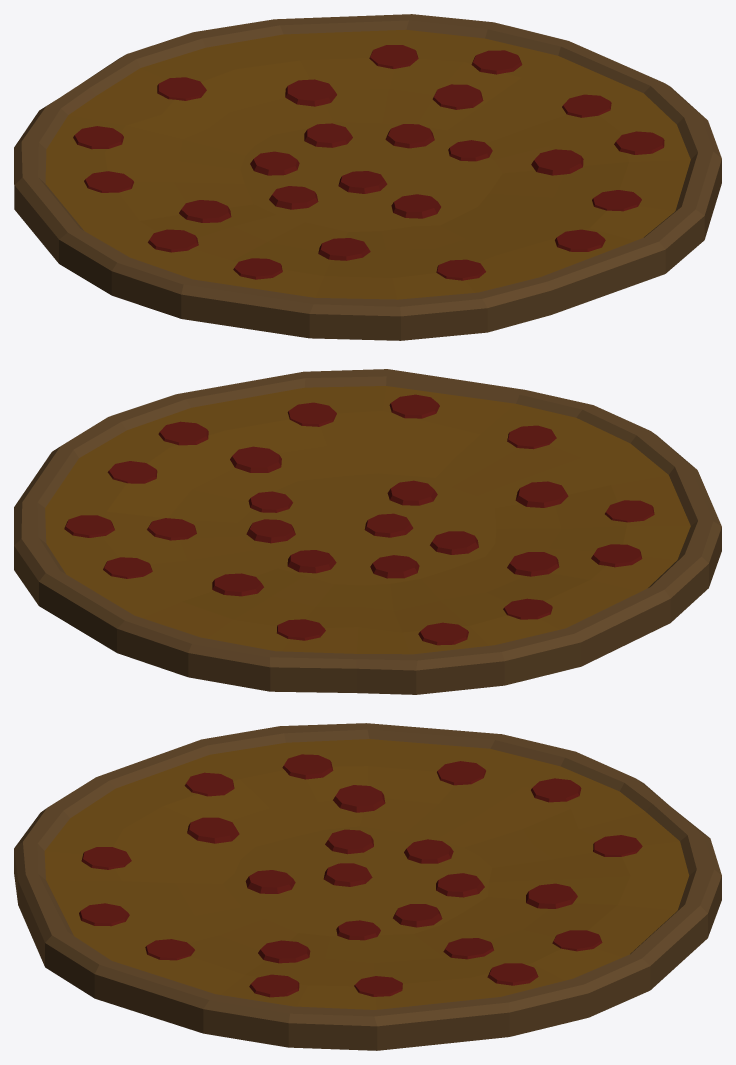
File: Pizza.obj
3 views of the same model, one above another, from view 1: azimuth 30°, elevation 25°; view 2: azimuth 150°, elevation 25°; view 3: azimuth 270°, elevation 25° (orthographic).
Parts seen in each view (by area): view 1: Pizza_Cube.017; view 2: Pizza_Cube.017; view 3: Pizza_Cube.017.
Part boxes in pixels (x1,y1,x2,y2): Pizza_Cube.017: [14, 14, 721, 340]; Pizza_Cube.017: [14, 369, 721, 694]; Pizza_Cube.017: [14, 723, 721, 1050].
Bounding box in the file's own units: 3.37 × 0.1609 × 3.36.
